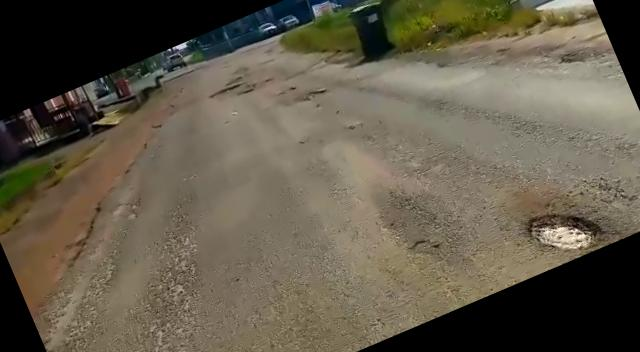pothole: (520, 191, 610, 270), (290, 83, 332, 110)
